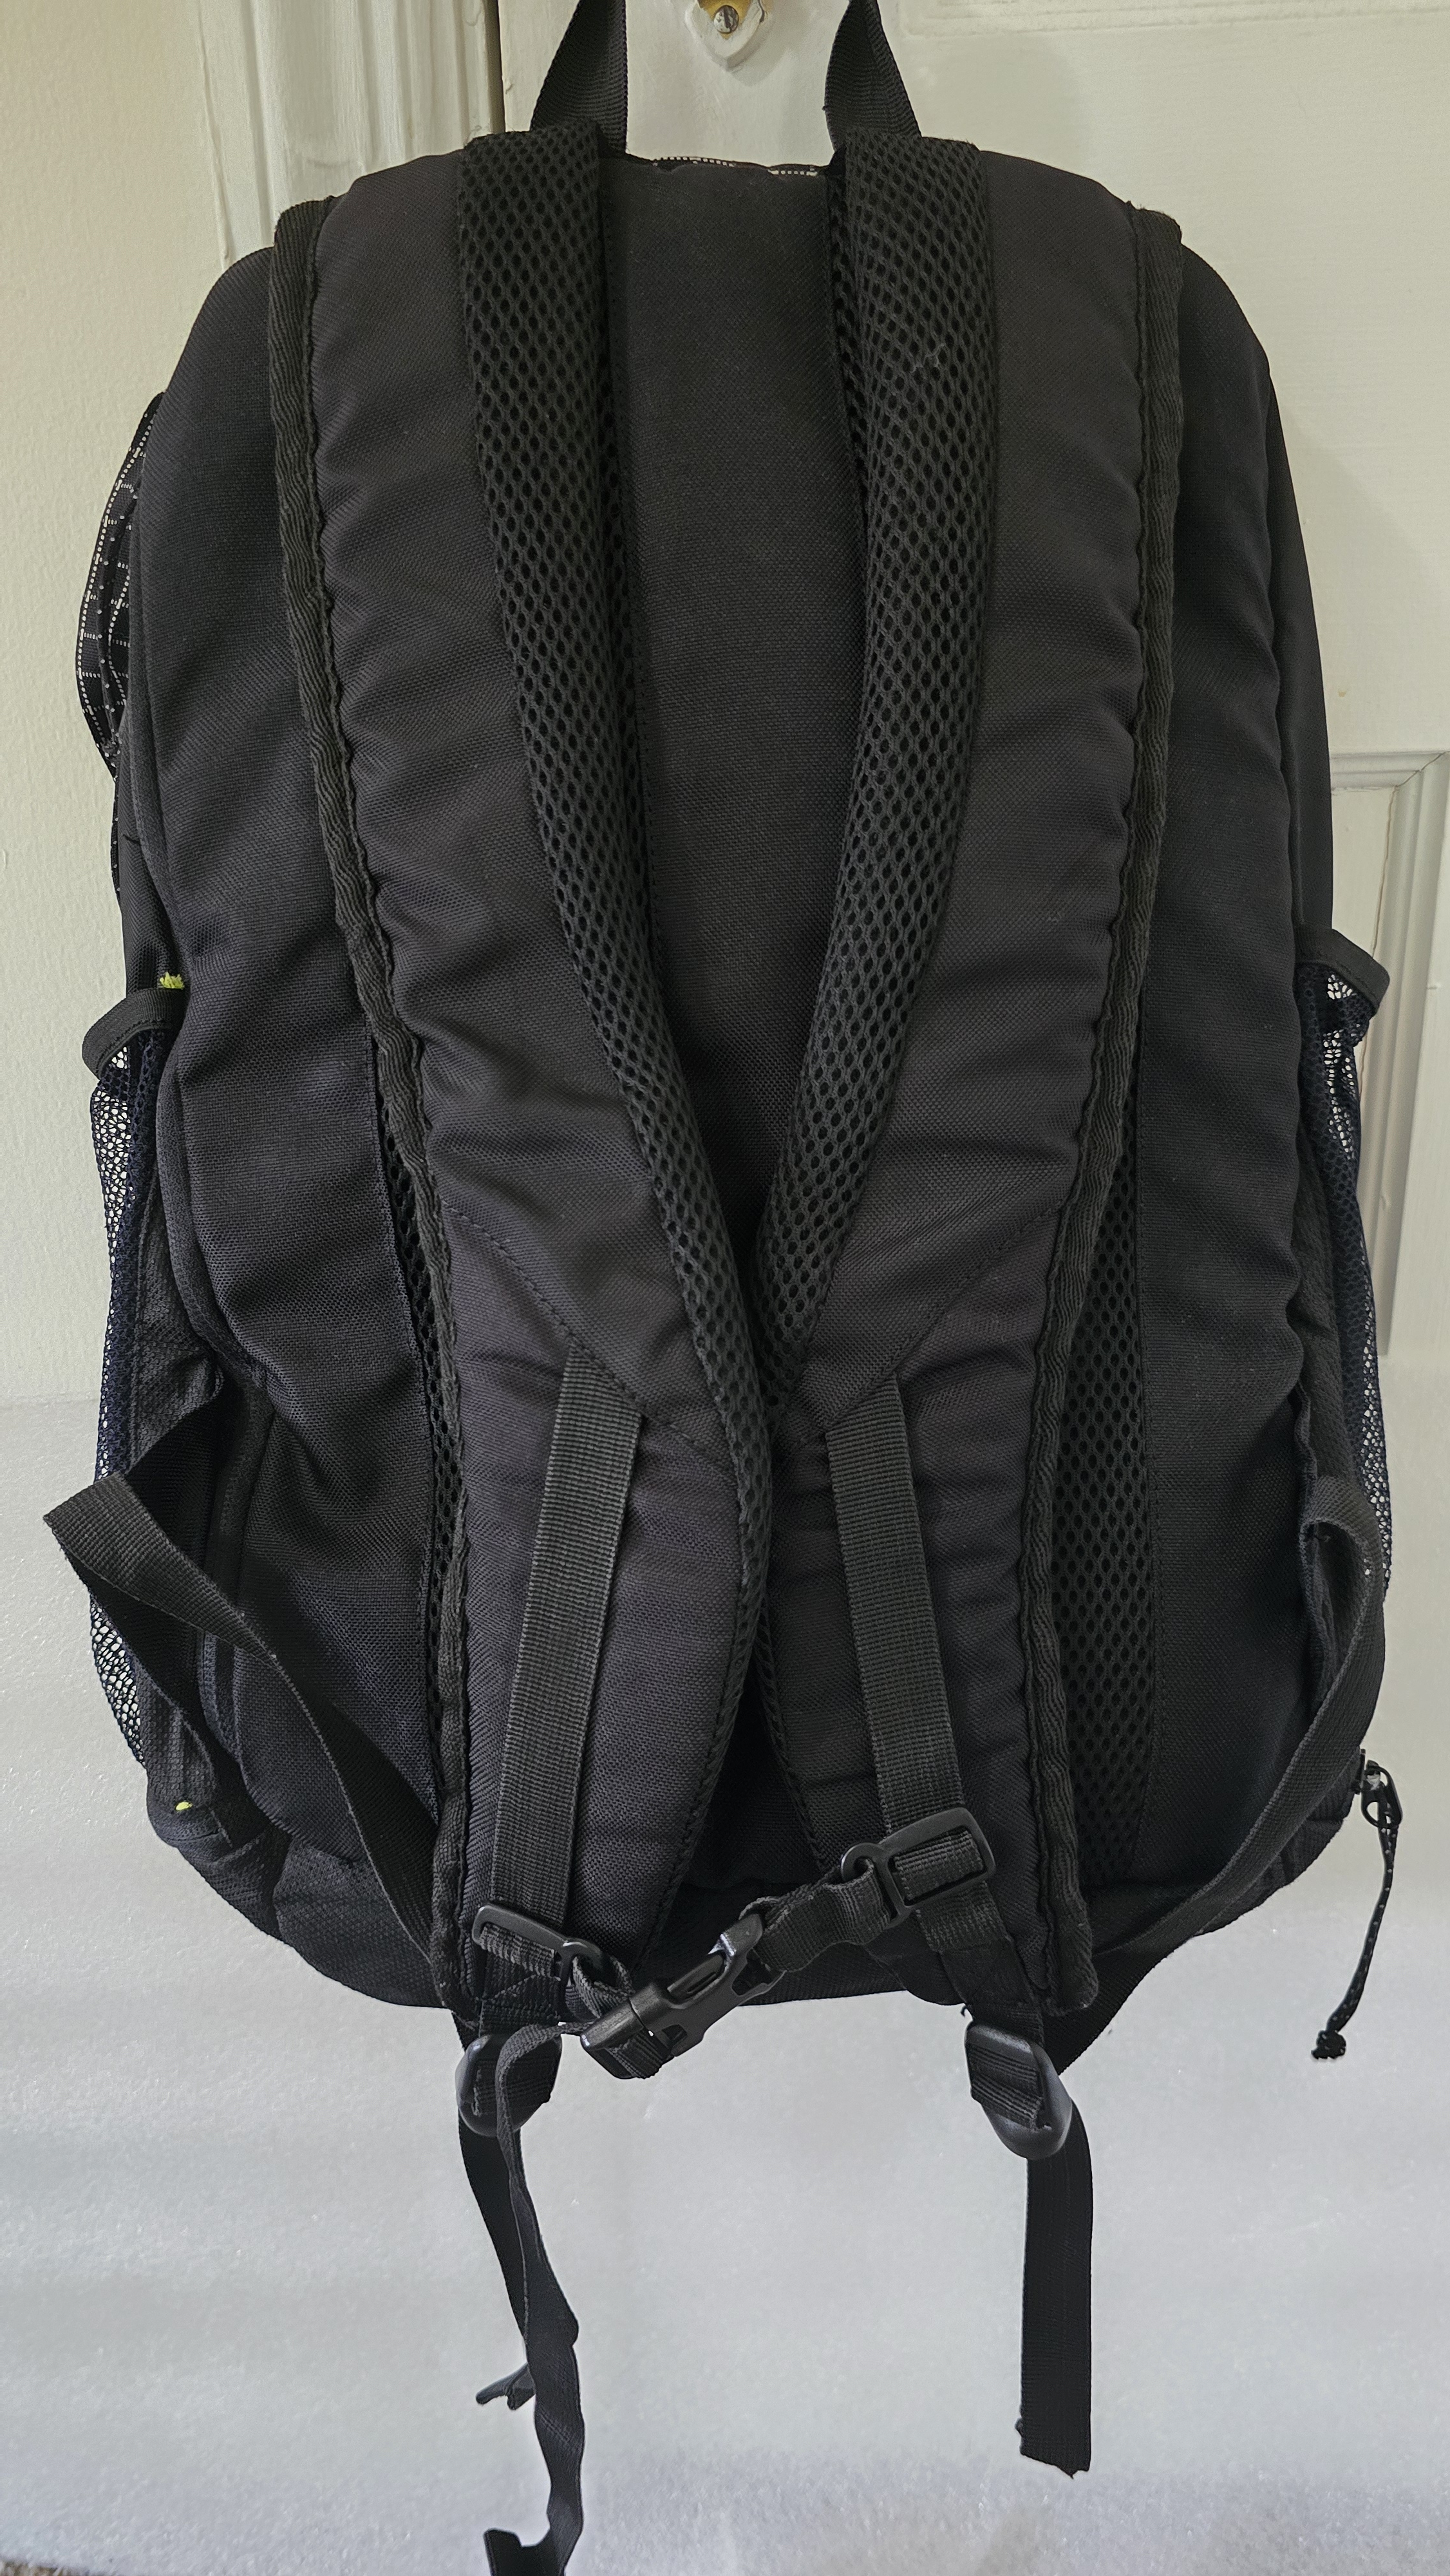bag: (81, 0, 1420, 2104)
